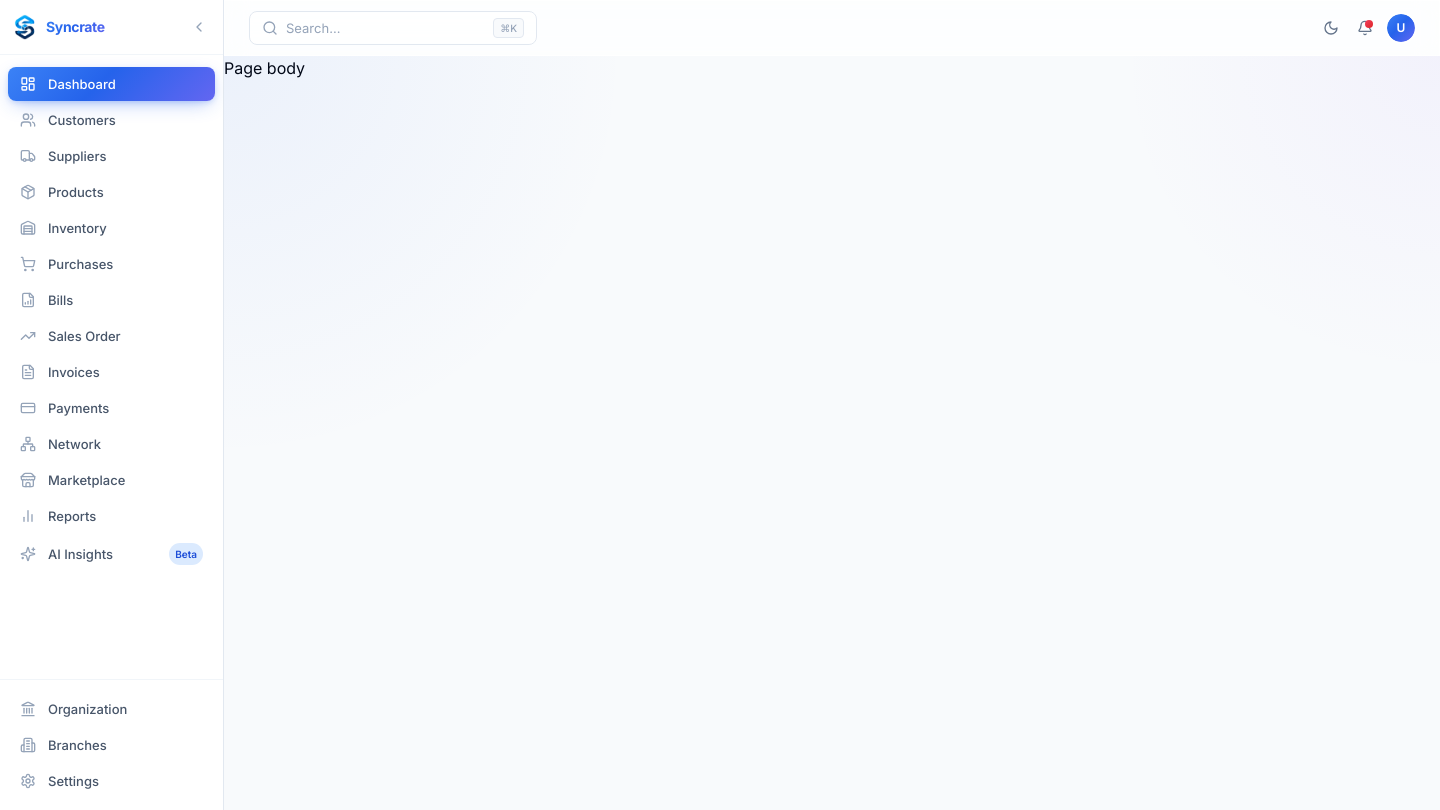
AppShell › exposes sign out via the account menu
The image size is (1440, 810).
Check: the button "sign out" is not shown
Click the button named "account menu".
click(1401, 28)  # box left=1387, top=14, right=1415, bottom=42
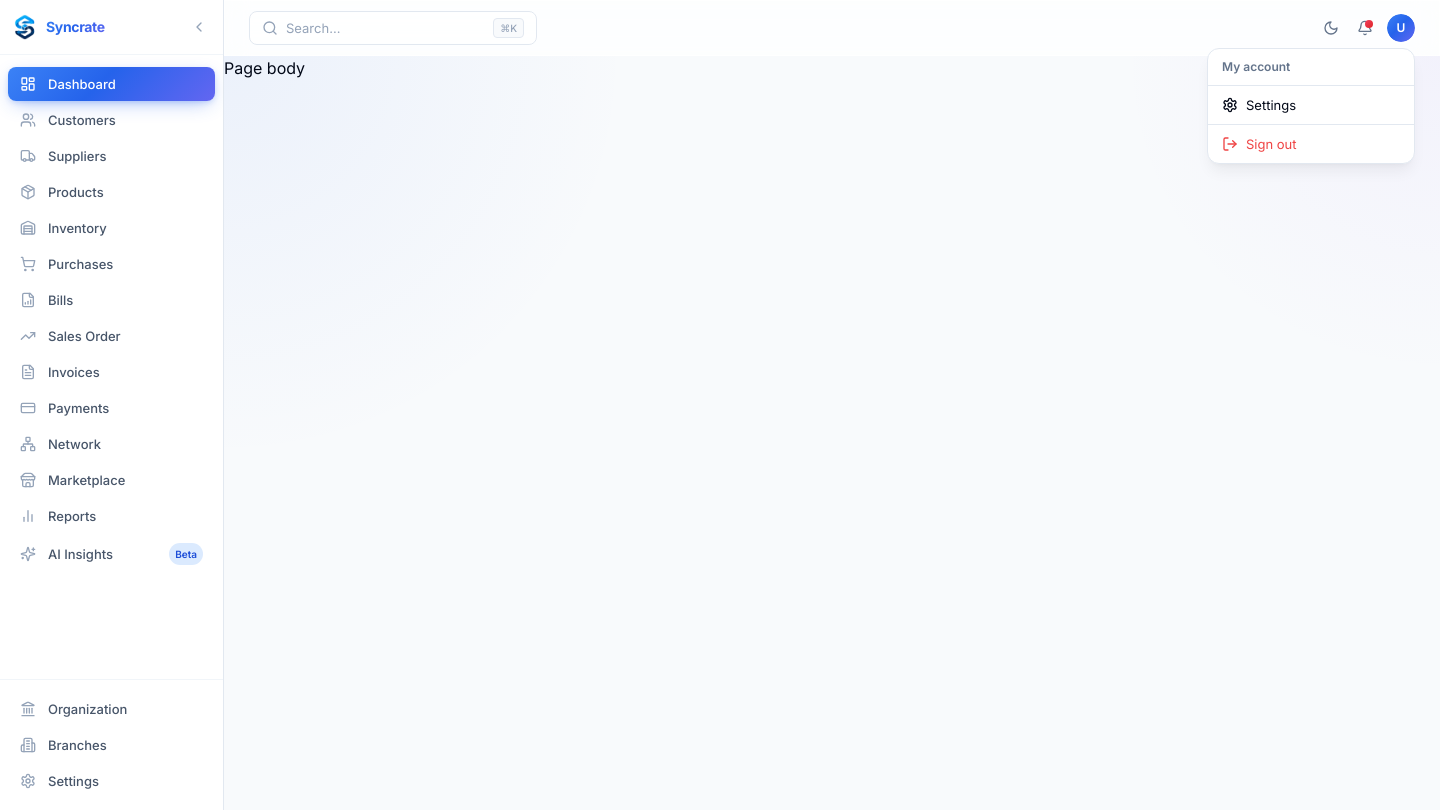
Check: the button "Sign out" is shown, box left=1222, top=135, right=1400, bottom=153
